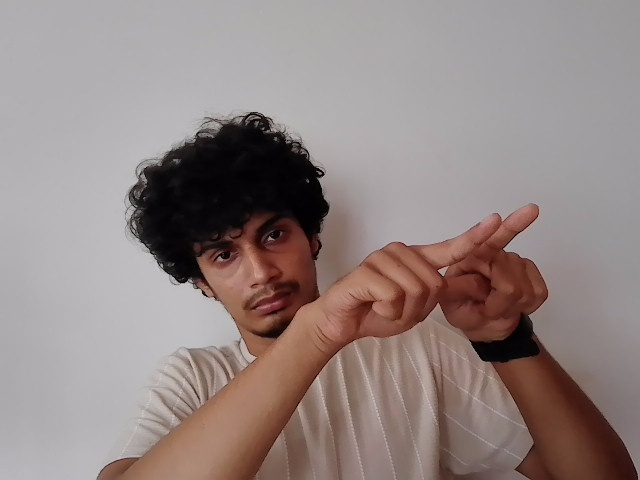same: (322, 201, 550, 326)
